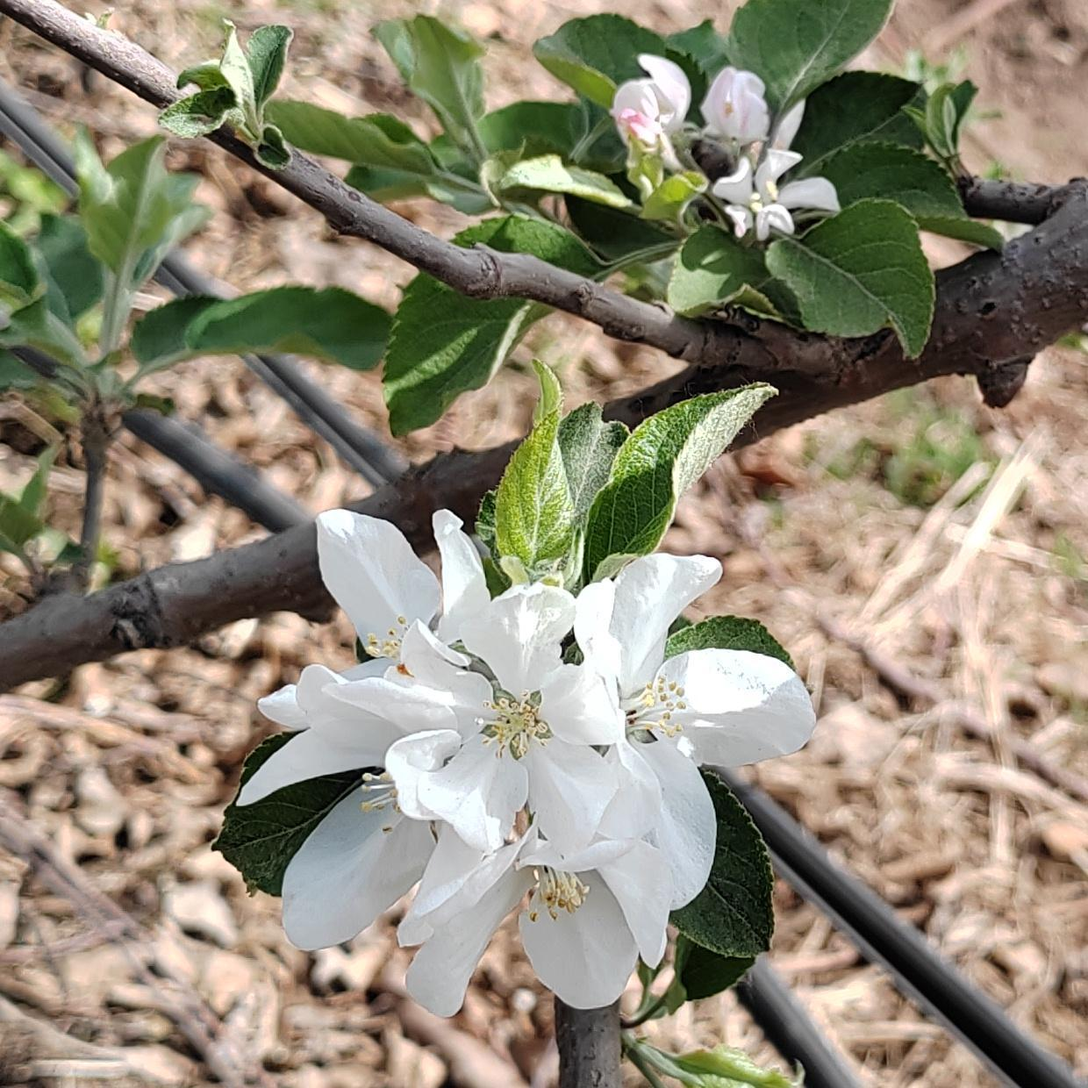apple_flower: (237, 510, 815, 1014), (609, 50, 838, 241)
